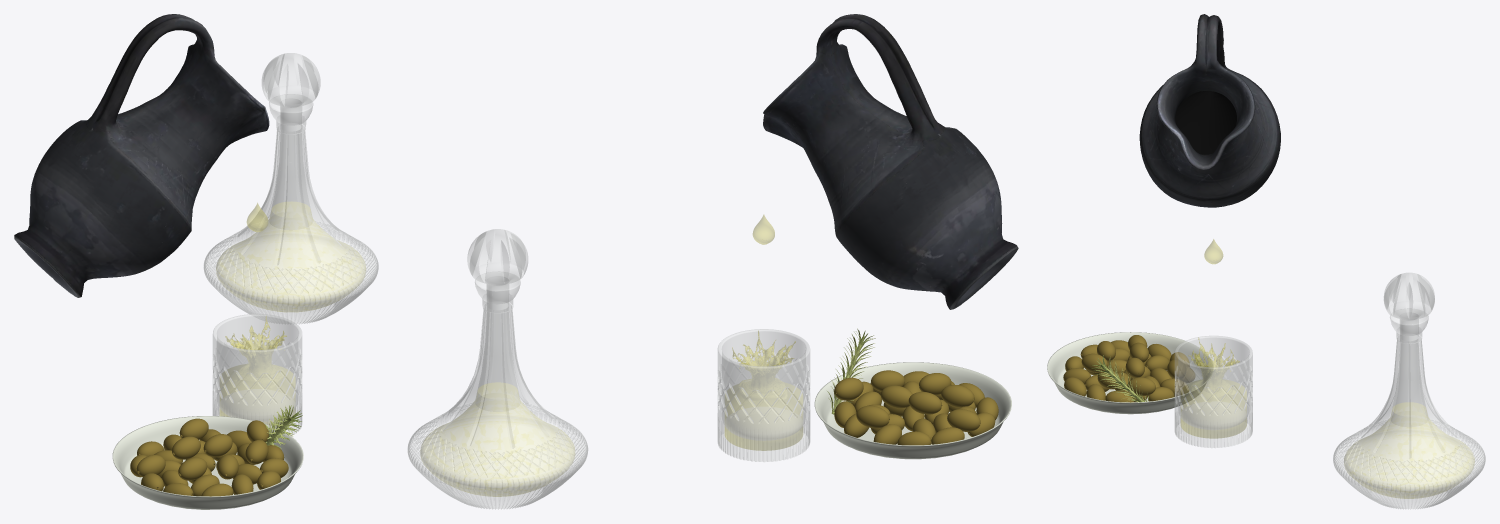
The model's file is oil-scene.glb.
3 views of the same model, side by side, from view 1: azimuth 30°, elevation 25°; view 2: azimuth 150°, elevation 25°; view 3: azimuth 270°, elevation 25° (orthographic). The views are drawn at different scales.
Visible parts, largest first — view 1: ZU_Object_2, ZU_decanter_Glass (Clear)_0, ZU_decanter_Glass (Clear)_0.001, ZU_glass_Glass (Clear)_0, ZU_wine_Water - Swimming Pool_0, ZU_plate, ZU_stopper_Glass (Clear)_0, ZU_CupOil, ZU_pasted__pasted__bifrostLiquid1Mesh1_aiStandardSurface3_0. (×2), ZU_rosmarin, ZU_olive.023, ZU_olive.024 (+6 smaller); view 2: ZU_Object_2, ZU_decanter_Glass (Clear)_0, ZU_glass_Glass (Clear)_0, ZU_wine_Water - Swimming Pool_0, ZU_plate, ZU_decanter_Glass (Clear)_0.001, ZU_stopper_Glass (Clear)_0, ZU_CupOil, ZU_rosmarin; view 3: ZU_Object_2, ZU_decanter_Glass (Clear)_0, ZU_glass_Glass (Clear)_0, ZU_wine_Water - Swimming Pool_0, ZU_decanter_Glass (Clear)_0.001, ZU_plate, ZU_stopper_Glass (Clear)_0, ZU_CupOil, ZU_rosmarin.
Part boxes in pixels (x1,y1,x2,y2): ZU_Object_2: (14, 14, 269, 297); ZU_decanter_Glass (Clear)_0: (203, 94, 378, 324); ZU_decanter_Glass (Clear)_0.001: (218, 126, 376, 298); ZU_glass_Glass (Clear)_0: (212, 314, 302, 435); ZU_wine_Water - Swimming Pool_0: (216, 202, 365, 311); ZU_plate: (112, 416, 303, 509); ZU_stopper_Glass (Clear)_0: (262, 53, 320, 131); ZU_CupOil: (220, 364, 295, 427); ZU_pasted__pasted__bifrostLiquid1Mesh1_aiStandardSurface3_0. (×2): (225, 316, 286, 377); ZU_rosmarin: (265, 405, 302, 448); ZU_olive.023: (203, 434, 232, 457); ZU_olive.024: (172, 436, 200, 459); ZU_Object_2: (763, 14, 1018, 309); ZU_decanter_Glass (Clear)_0: (407, 271, 588, 509); ZU_glass_Glass (Clear)_0: (717, 329, 810, 461); ZU_wine_Water - Swimming Pool_0: (420, 382, 574, 496); ZU_plate: (814, 362, 1011, 459); ZU_decanter_Glass (Clear)_0.001: (417, 303, 586, 463); ZU_stopper_Glass (Clear)_0: (467, 229, 527, 309); ZU_CupOil: (725, 382, 802, 450); ZU_rosmarin: (827, 328, 875, 414); ZU_Object_2: (1139, 14, 1280, 207); ZU_decanter_Glass (Clear)_0: (1333, 308, 1485, 509); ZU_glass_Glass (Clear)_0: (1174, 336, 1252, 447); ZU_wine_Water - Swimming Pool_0: (1344, 402, 1474, 498); ZU_decanter_Glass (Clear)_0.001: (1335, 335, 1458, 508); ZU_plate: (1047, 332, 1213, 414); ZU_stopper_Glass (Clear)_0: (1384, 273, 1434, 340); ZU_CupOil: (1181, 379, 1246, 438); ZU_rosmarin: (1091, 355, 1148, 402).
Size of the model in its own units: 0.4715 by 0.4247 by 0.4485.
Materials: 7 (3 with a texture image).
